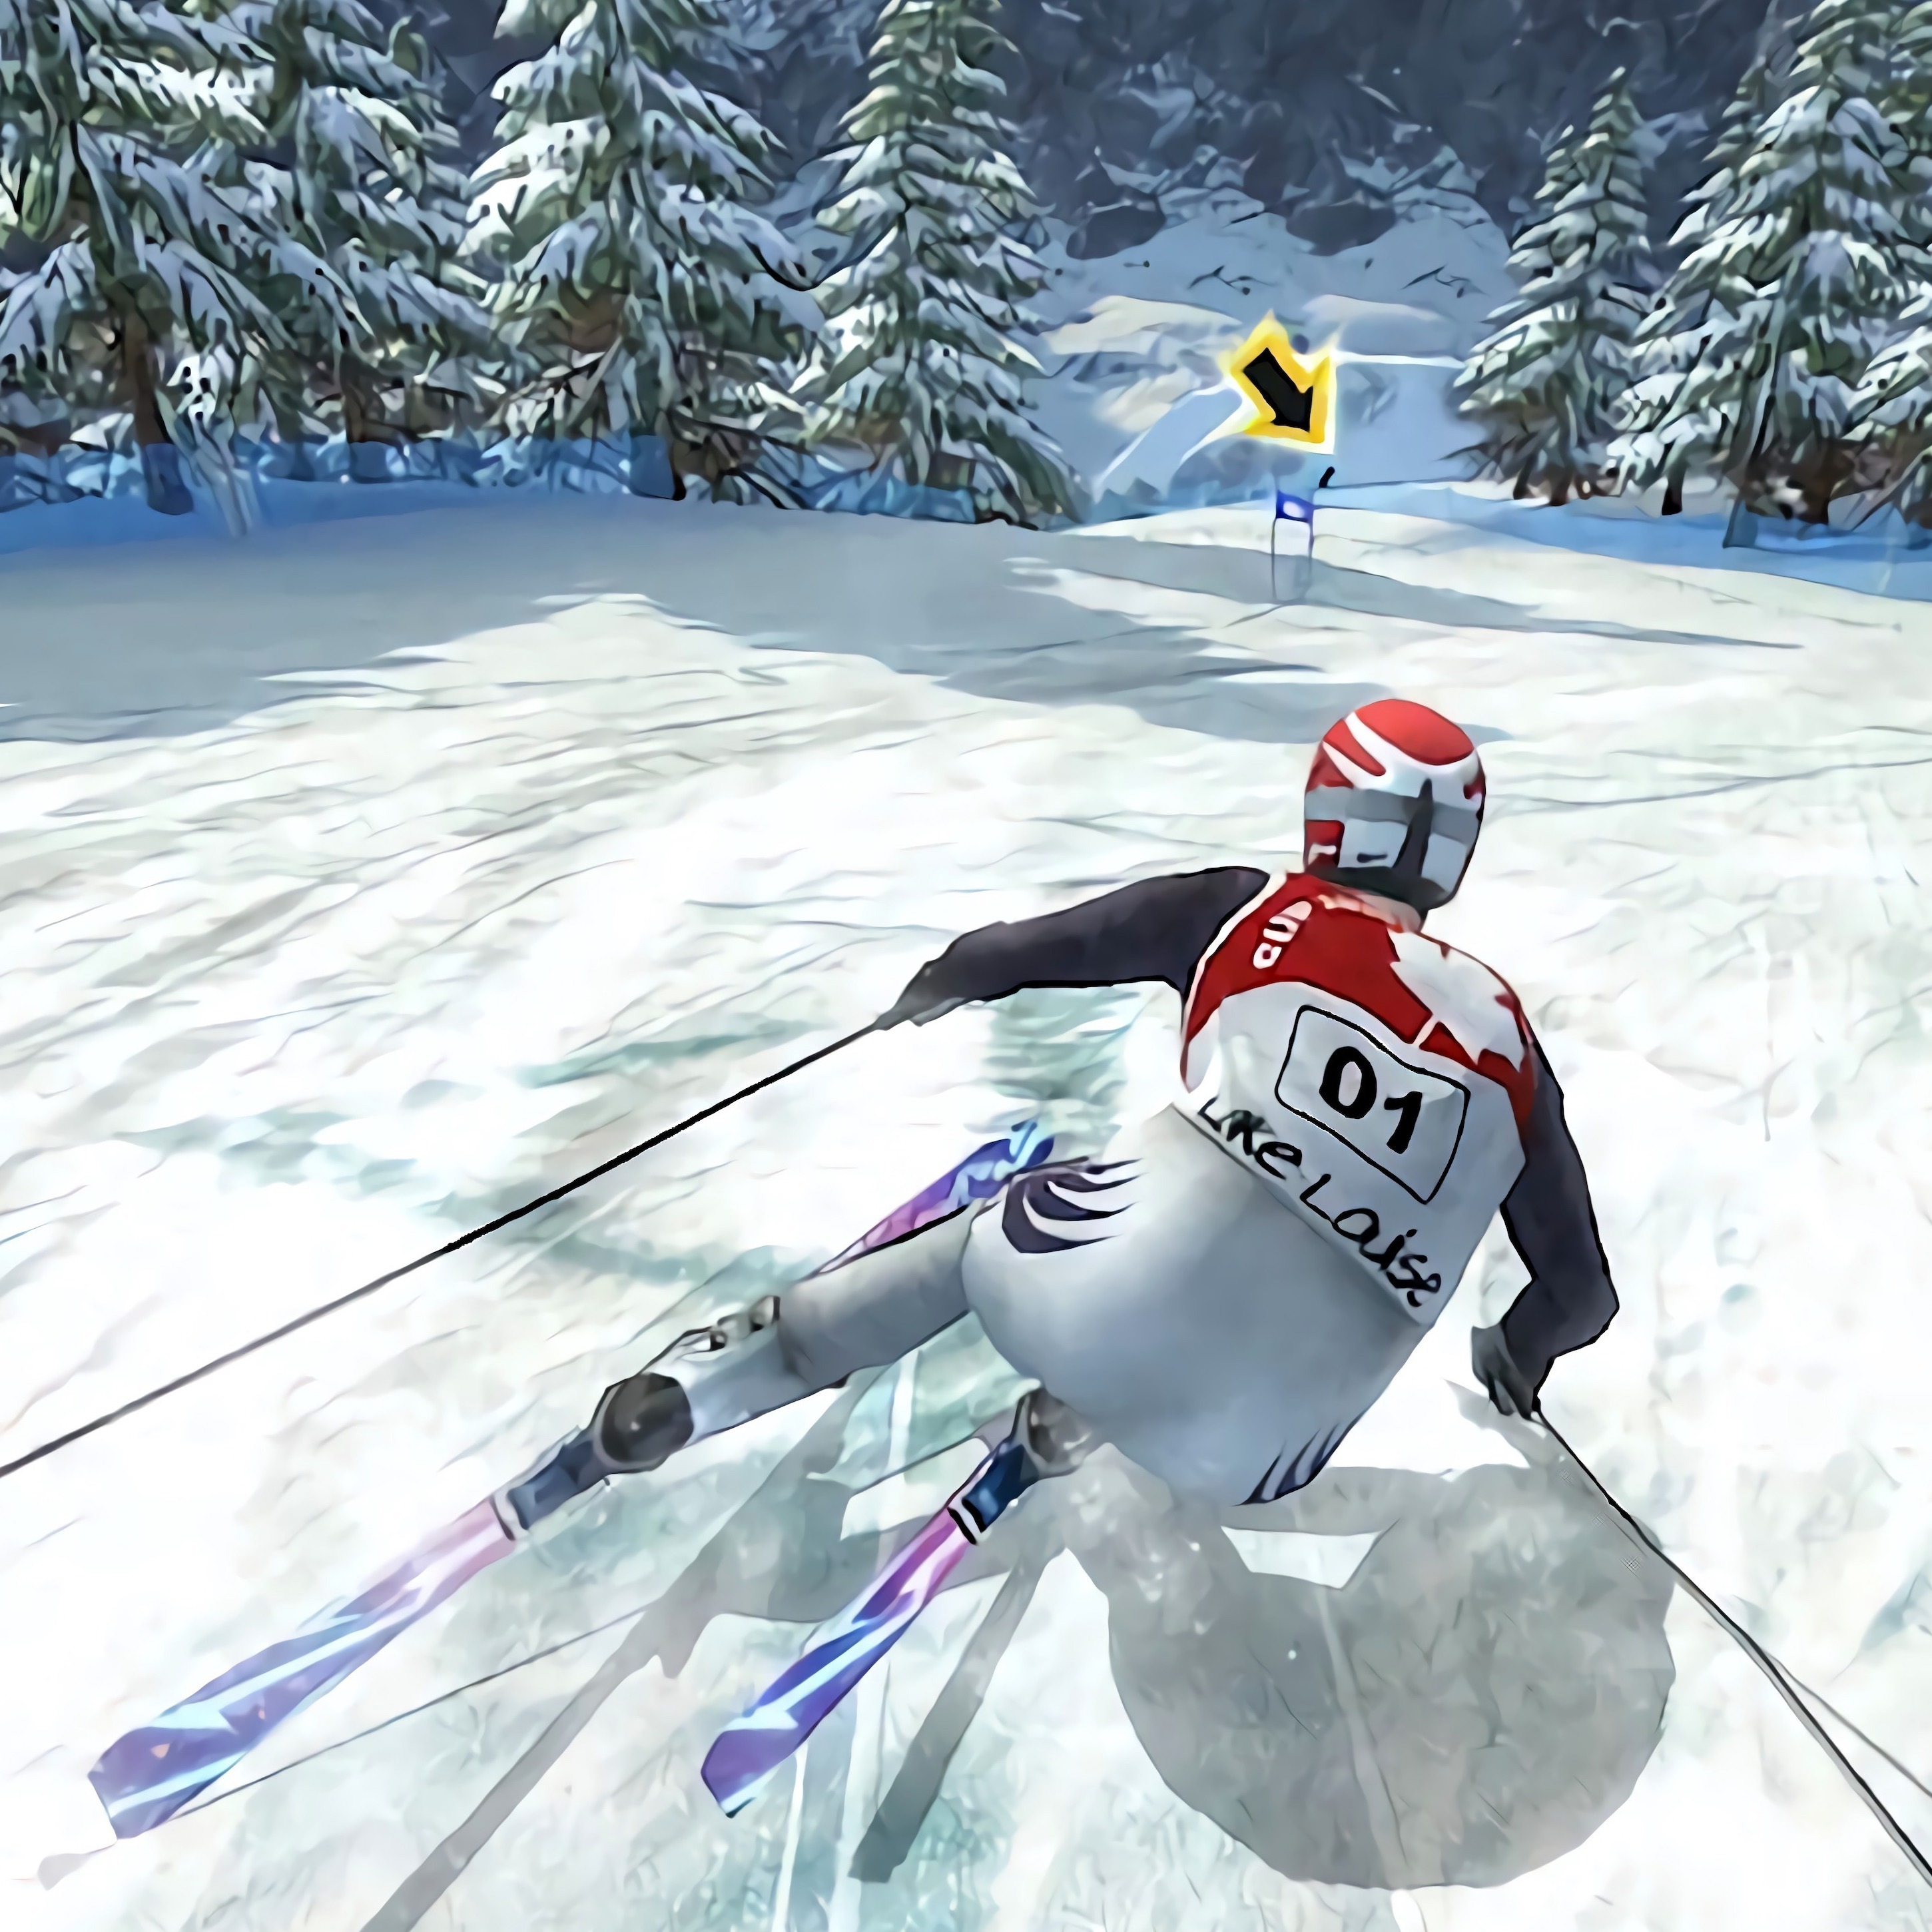skier: (44, 704, 1695, 1879)
